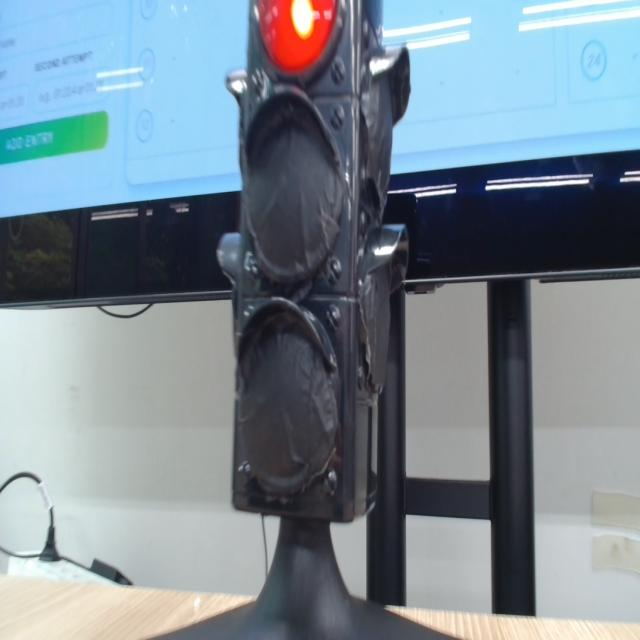red_light: (259, 0, 336, 74)
